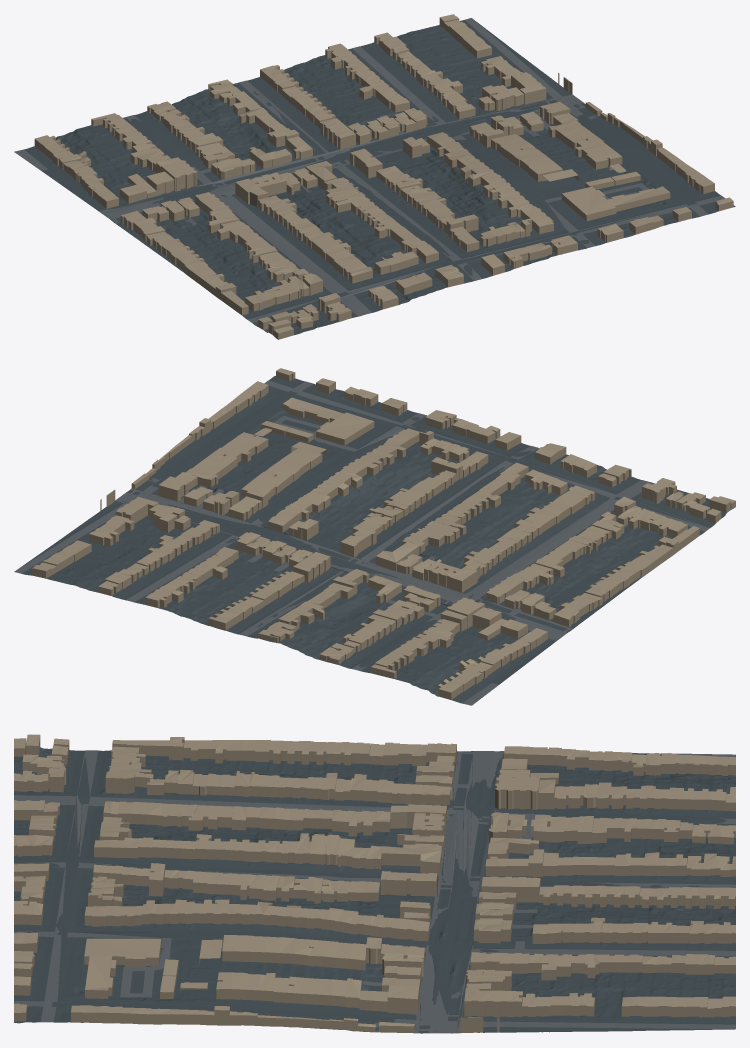
The model's file is epsg26910-1416-10878.lod0.glb.
3 views of the same model, one above another, from view 1: azimuth 30°, elevation 25°; view 2: azimuth 150°, elevation 25°; view 3: azimuth 270°, elevation 25° (orthographic). The views are drawn at different scales.
Parts seen in each view (by area): view 1: epsg26910-1416-10878-lod0; view 2: epsg26910-1416-10878-lod0; view 3: epsg26910-1416-10878-lod0.
Boxes of the visible parts, x1,y1,x2,y2 form: epsg26910-1416-10878-lod0: (14, 14, 735, 339); epsg26910-1416-10878-lod0: (14, 368, 735, 705); epsg26910-1416-10878-lod0: (14, 734, 735, 1033).
Size of the model in its own units: 384 by 29.3 by 384.
